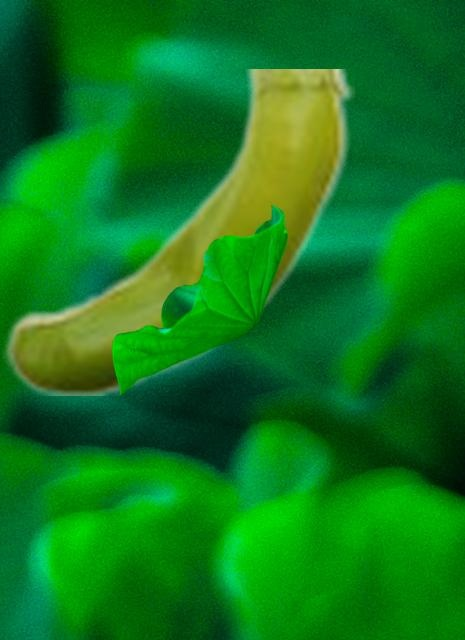green_chili: (2, 69, 353, 394)
